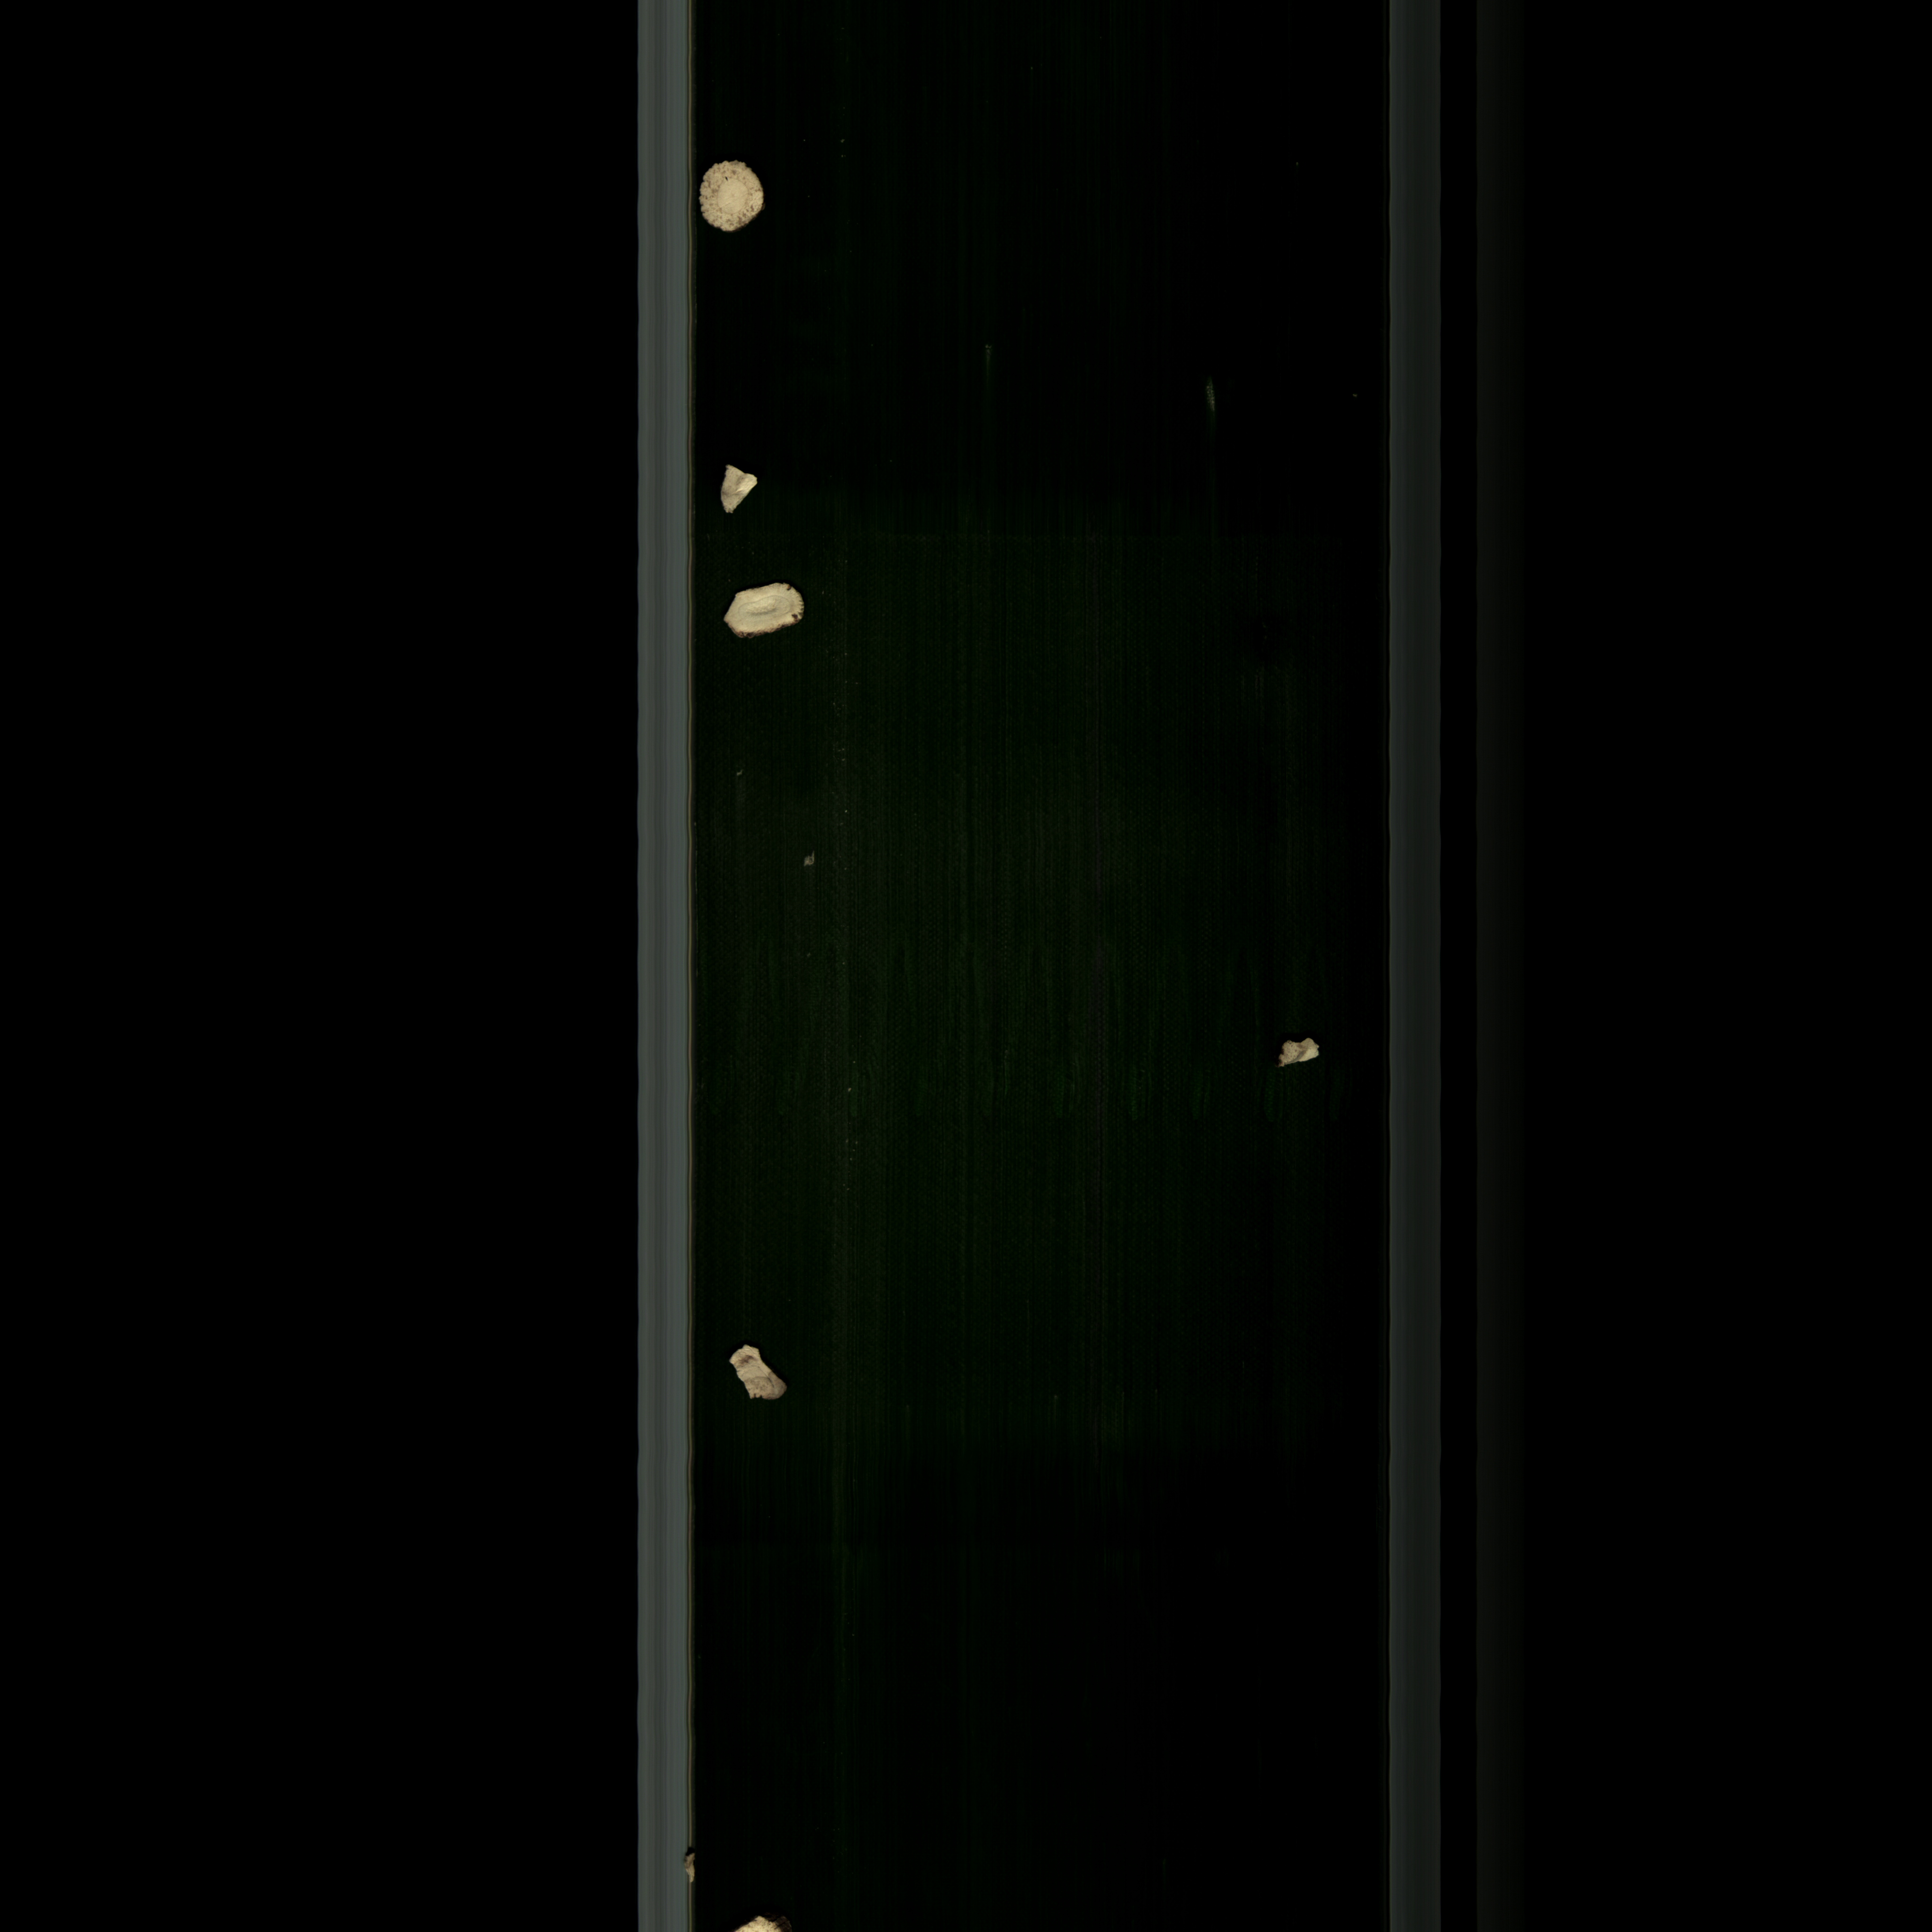distortion: (702, 577, 823, 656)
dreg: (671, 1847, 711, 1890)
moldy: (720, 1334, 805, 1426), (715, 456, 771, 527), (1270, 1024, 1327, 1077)
